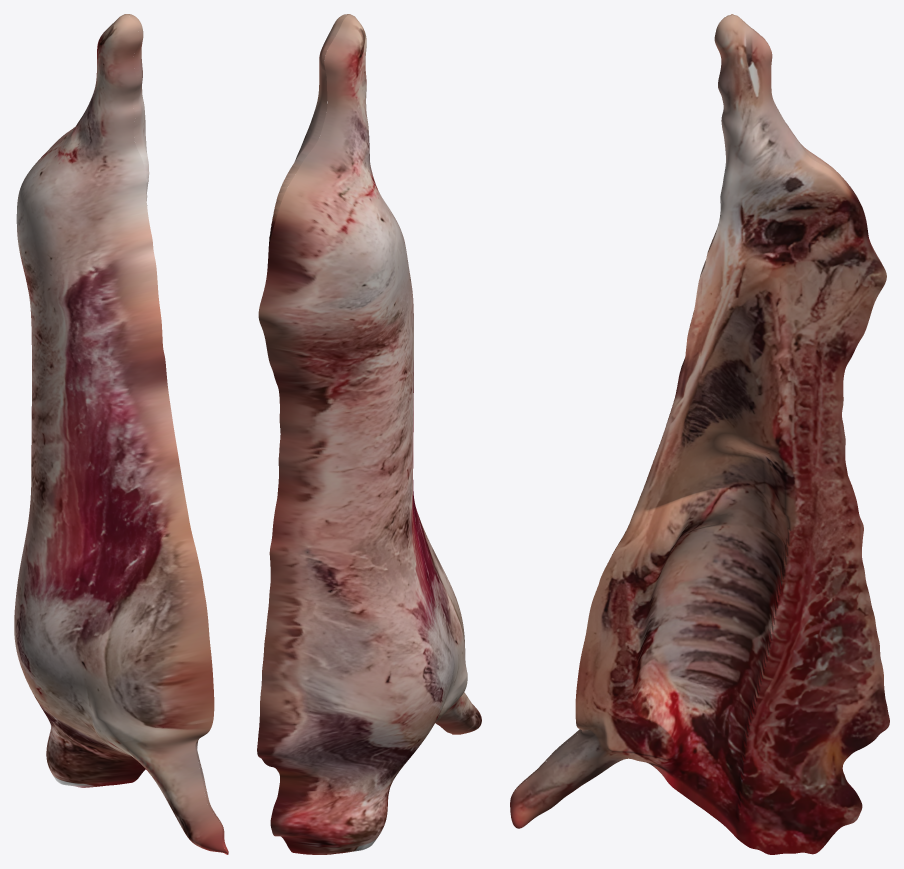
The model's file is demi_carcasse_boeuf_v22.glb.
3 views of the same model, side by side, from view 1: azimuth 30°, elevation 25°; view 2: azimuth 150°, elevation 25°; view 3: azimuth 270°, elevation 25° (orthographic). The views are drawn at different scales.
Parts seen in each view (by area): view 1: face_exterieure, face_de_fente; view 2: face_exterieure, face_de_fente; view 3: face_de_fente, face_exterieure.
Part boxes in pixels (x1=…): face_exterieure: x1=14, y1=14, x2=228, y2=854; face_de_fente: x1=126, y1=14, x2=228, y2=853; face_exterieure: x1=257, y1=14, x2=481, y2=854; face_de_fente: x1=268, y1=14, x2=452, y2=734; face_de_fente: x1=510, y1=15, x2=889, y2=854; face_exterieure: x1=513, y1=14, x2=882, y2=792.
Bounding box in the file's own units: 0.4163 × 2.5 × 1.03.
Materials: 2 (2 with a texture image).
